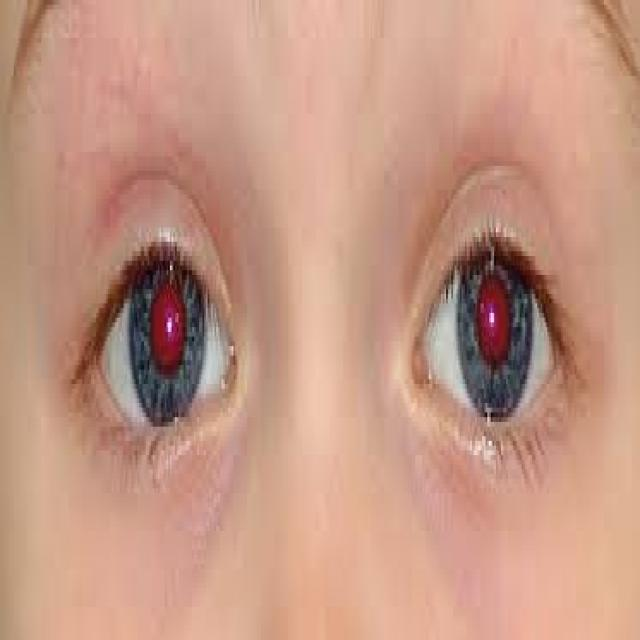reflexo-normal: (438, 198, 544, 456), (116, 217, 212, 448)
